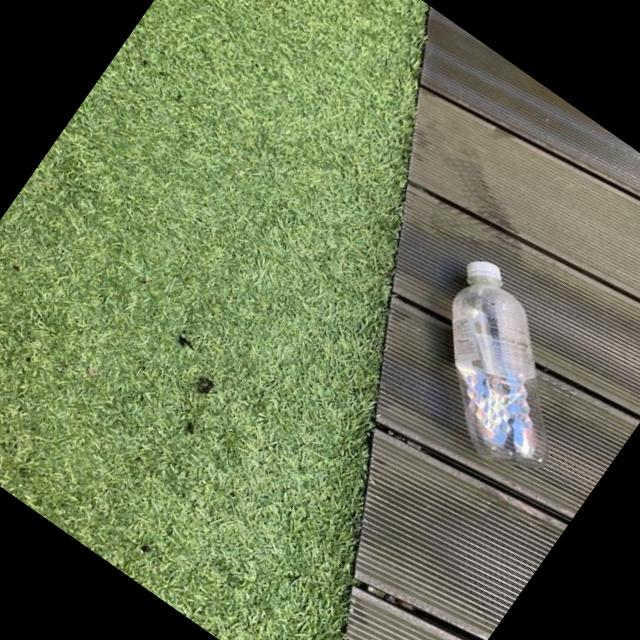BotolPlastik: (380, 248, 620, 488)
